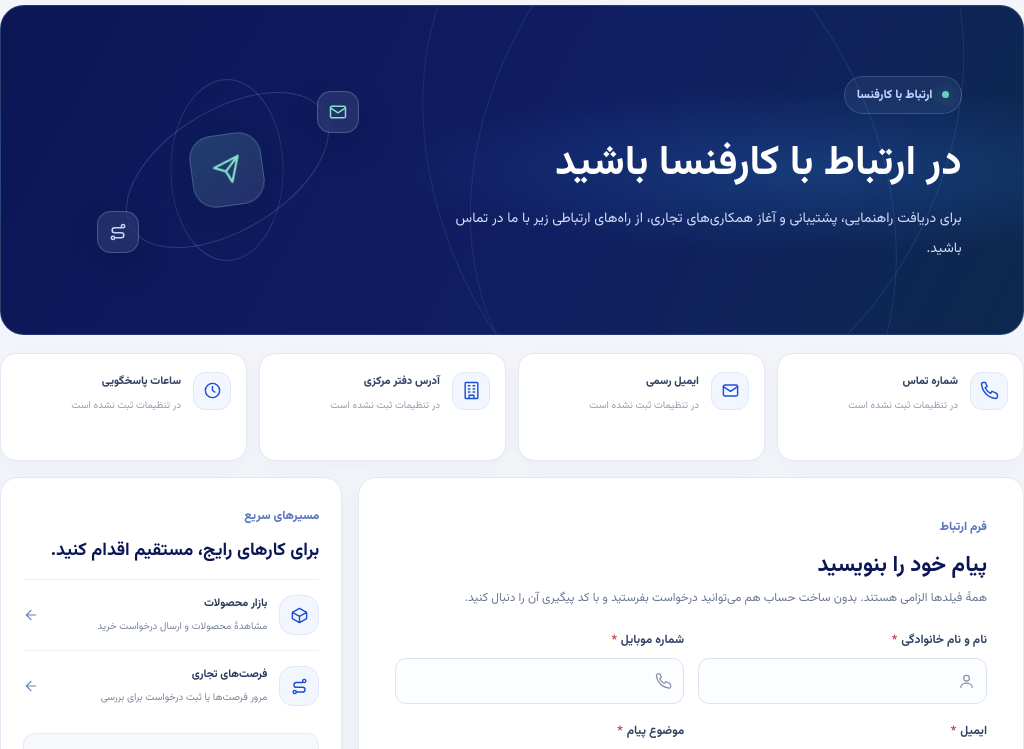
About and contact pages › shows field-level validation errors before sending a contact message
Type "کاربر نمونه" into the field labelled "نام و نام خانوادگی *" at point(843, 681), box [698,658,987,704]
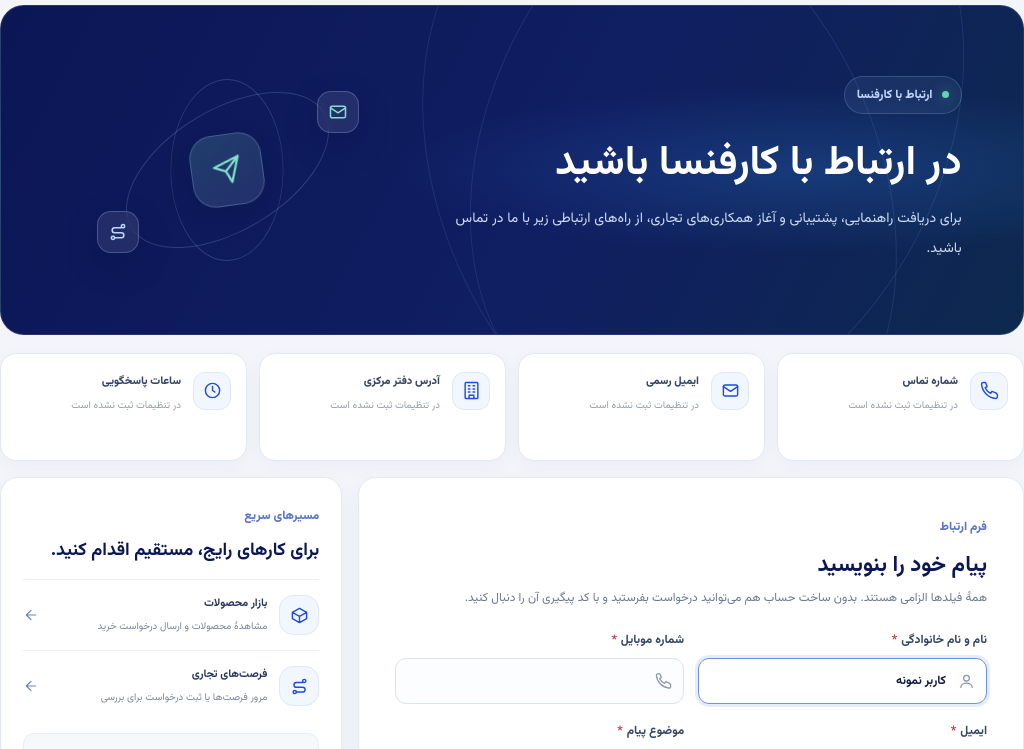
Type "123" into the field labelled "شماره موبایل *" at point(540, 681), box [395,658,684,704]
(page scrolled)
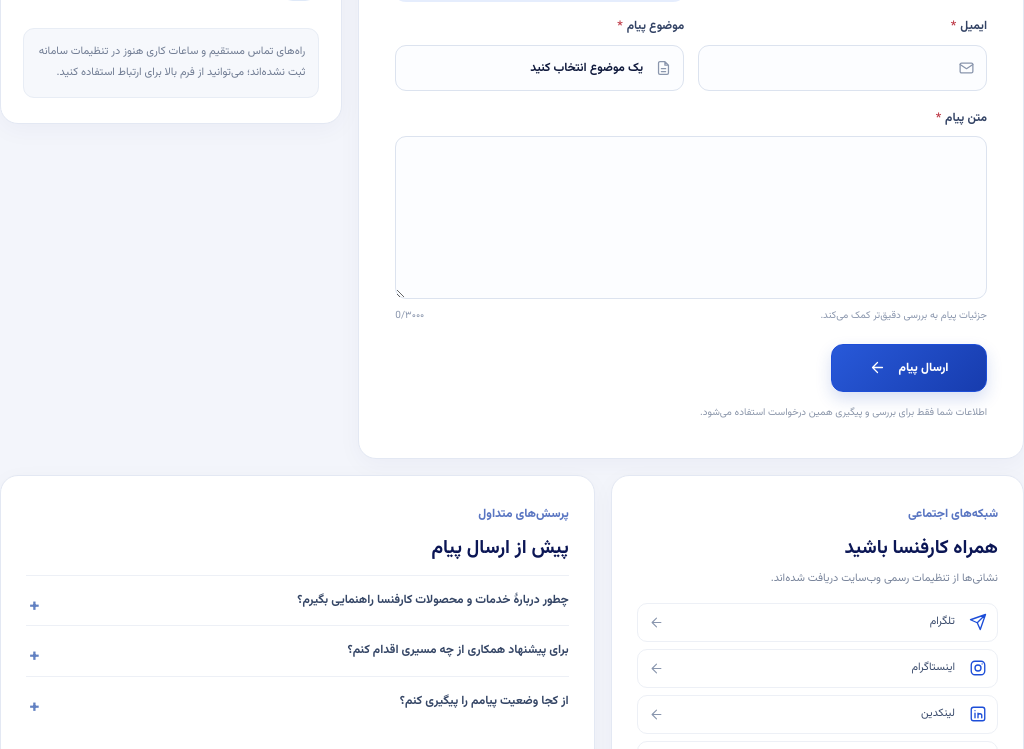
Click the button "ارسال پیام" at point(909, 368), box [831,344,987,392]
(page scrolled)
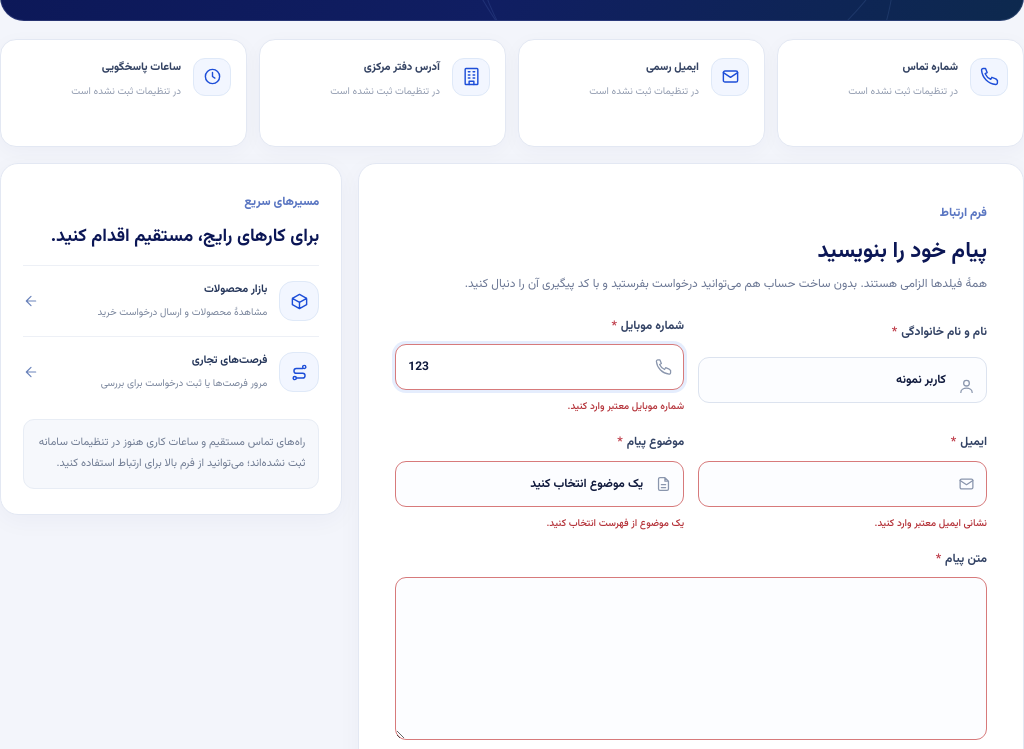
Result: the field labelled "شماره موبایل * شماره موبایل معتبر وارد کنید." is marked as invalid at [395,344,684,390]
